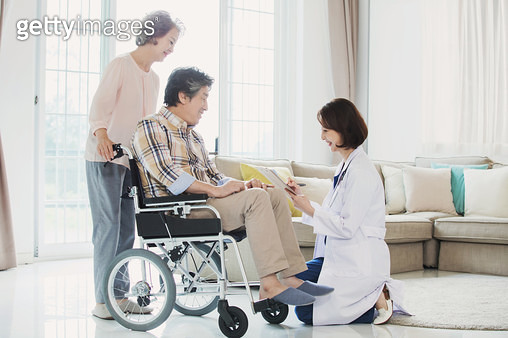wheelchair: (100, 66, 333, 338)
